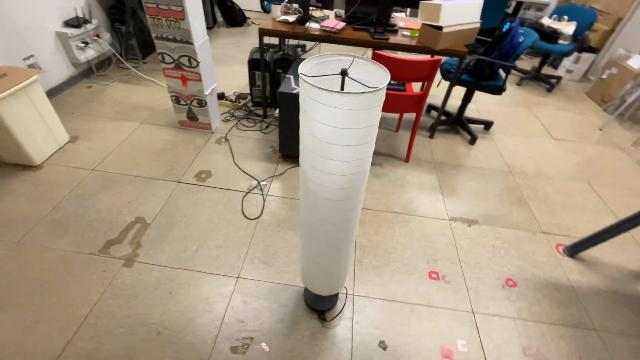Chair: (362, 45, 443, 167)
Lamp: (294, 49, 394, 326)
